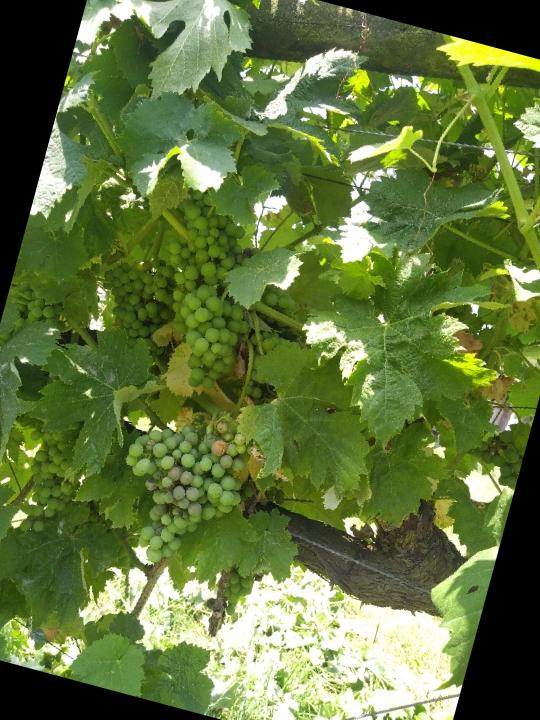grape: (97, 391, 273, 586), (134, 195, 283, 398)
